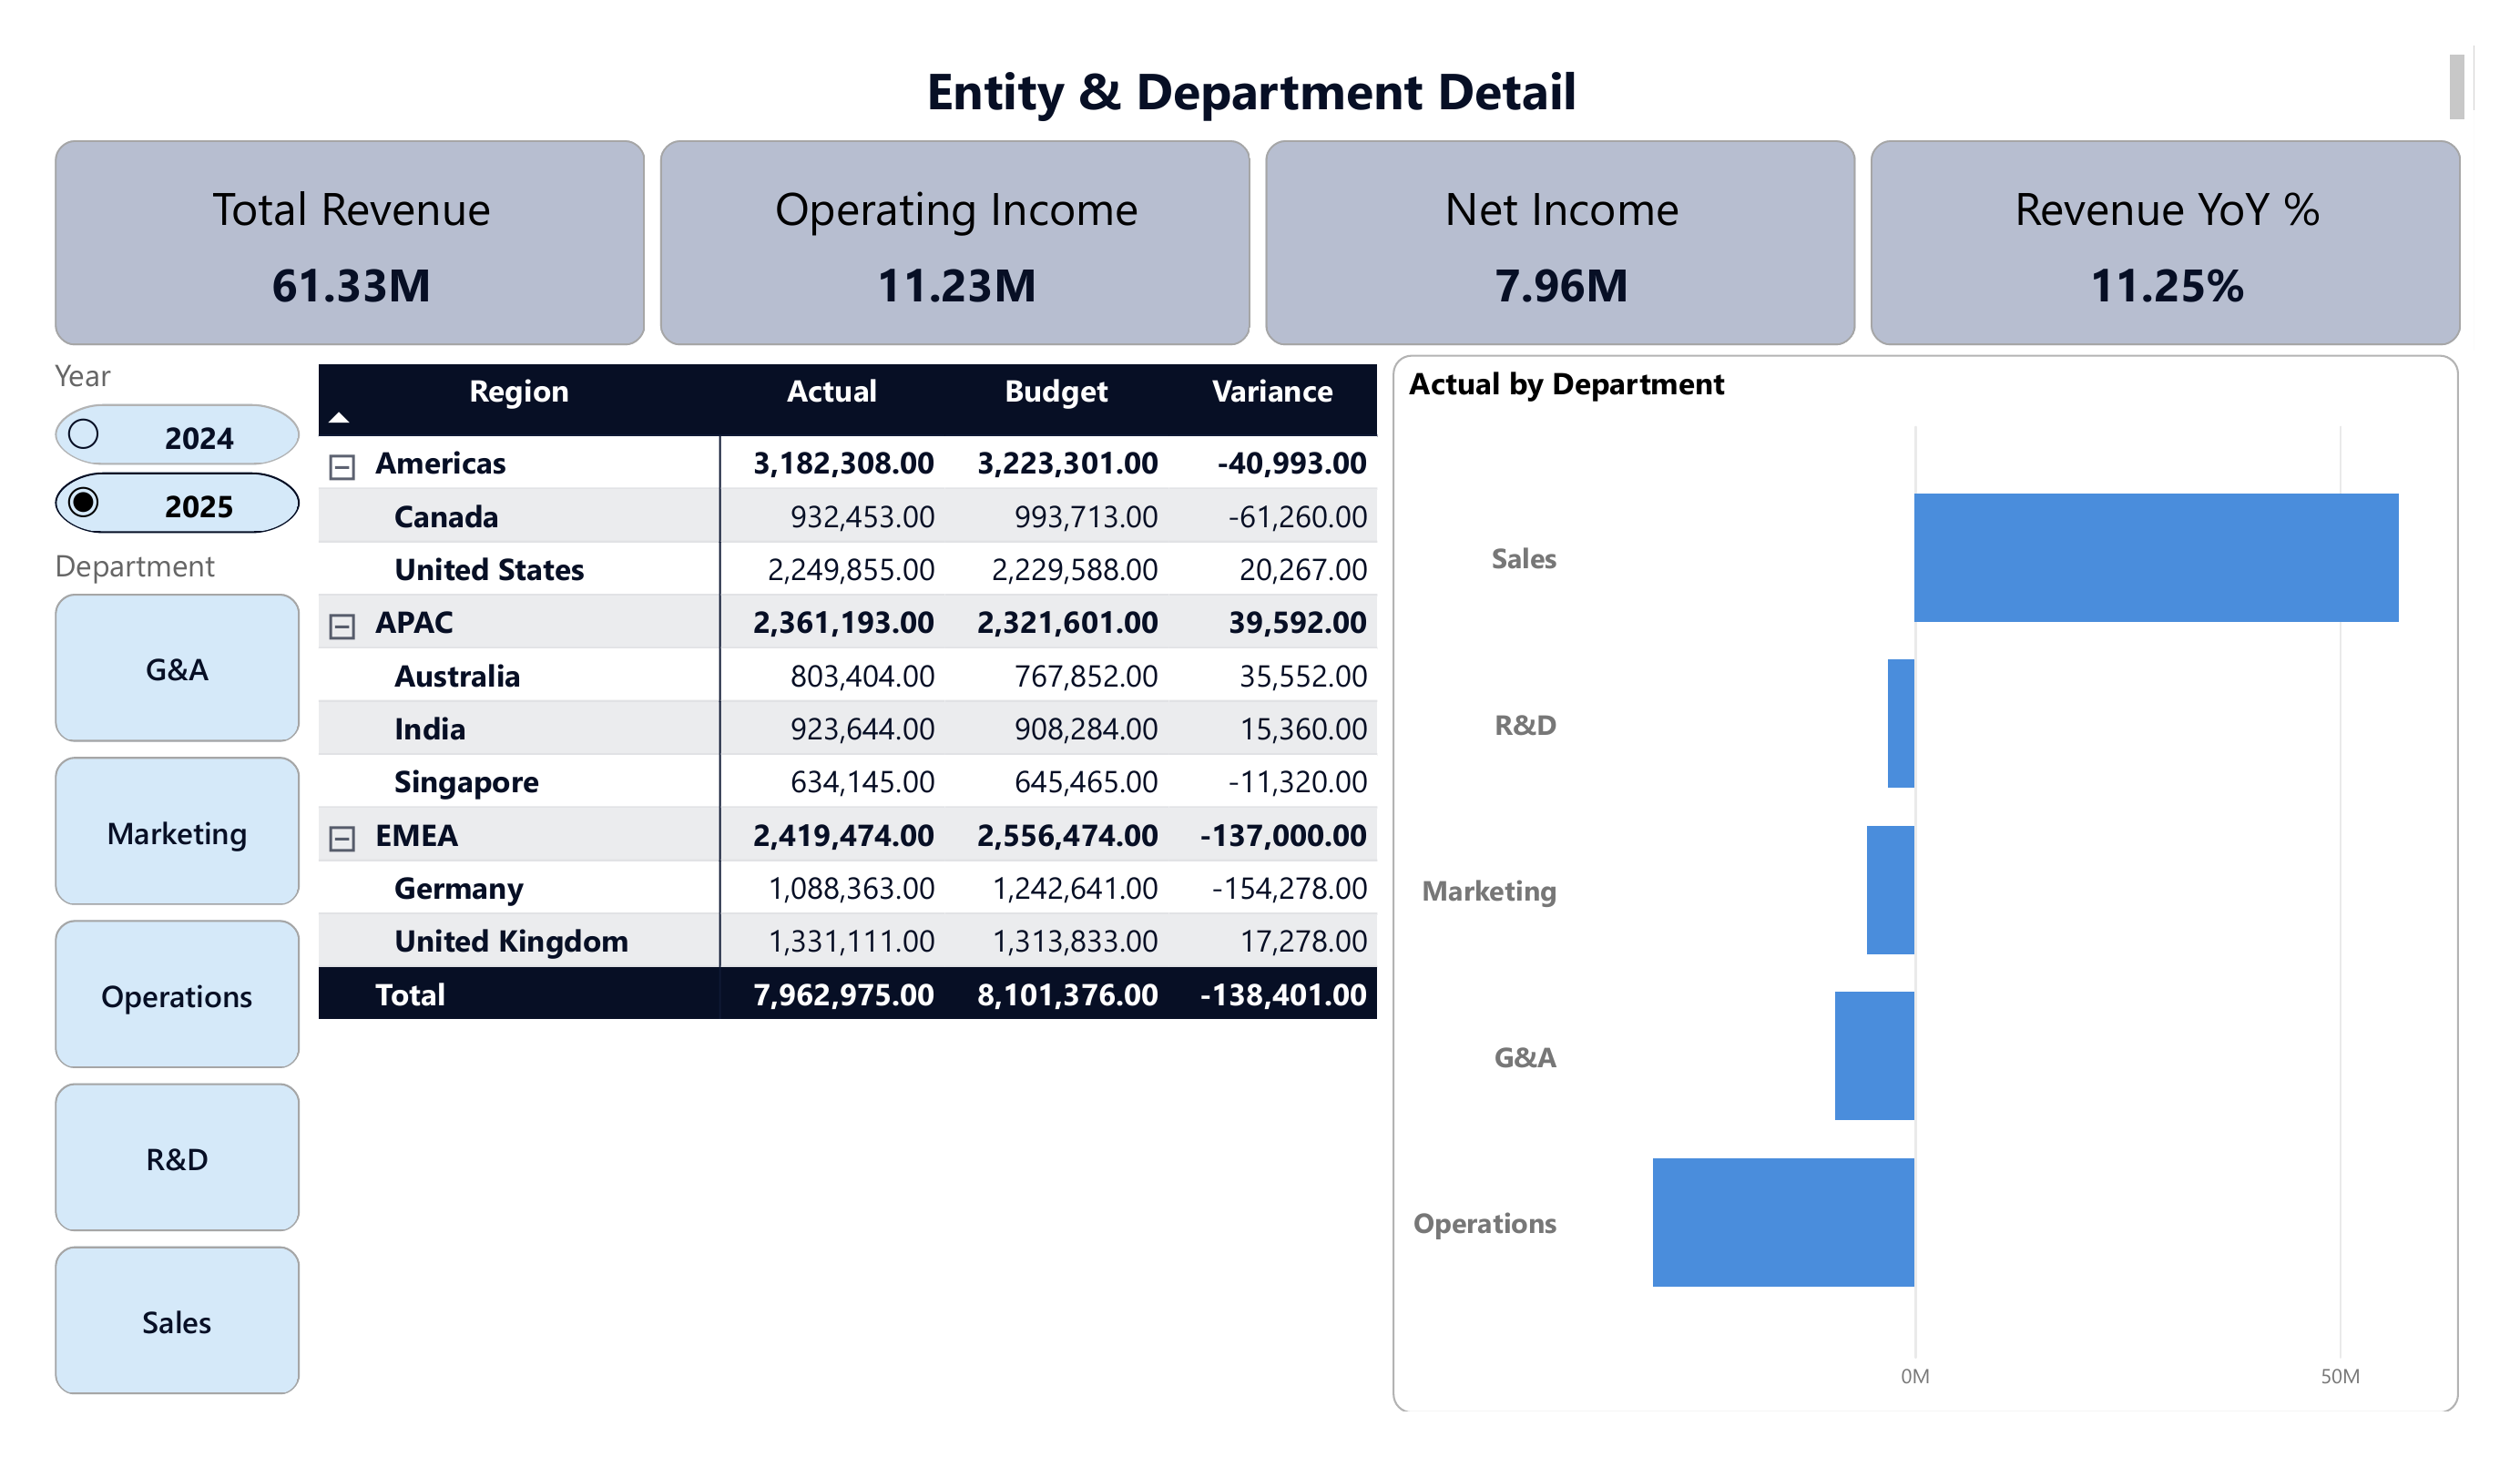

The dashboard page shown, as its layout file describes it:
{"tool":"powerbi","page":{"name":"Duplicate of P&L Variance","canvas":[1280,720],"ordinal":2},"visuals":[{"type":"textbox","box":[0,0,1280,45],"z":0},{"type":"cardVisual","fields":{"Data":["FactFinancials.Total Revenue","FactFinancials.Operating Income","FactFinancials.Net Income","FactFinancials.Revenue YoY %"]},"box":[0,45.2,1280,118.1],"z":1000},{"type":"advancedSlicerVisual","fields":{"Values":["DimDepartment.Department"]},"box":[0,263.2,139.1,457.3],"z":2000},{"type":"pivotTable","fields":{"Rows":["DimEntity.Entity Hierarchy.Region","DimEntity.Entity Hierarchy.Entity"],"Values":["FactFinancials.Actual","FactFinancials.Budget","FactFinancials.Variance"]},"box":[139,163.3,570,557.2],"z":3000},{"type":"clusteredBarChart","fields":{"Category":["DimDepartment.Department"],"Y":["FactFinancials.Actual"]},"box":[709.5,163.3,562.8,557.2],"z":4000},{"type":"listSlicer","fields":{"Values":["DimDateDaily.Year"]},"box":[0,162.9,139.1,100],"z":5000}]}

Visuals, with their boxes on the page's 1280x720 design canvas (x1, y1, x2, y2). These are canvas units, not pixel positions in the 2520x1457 screenshot, which may show the page scaled, cropped or inside an application window:
textbox: 0:0:1280:45
cardVisual - FactFinancials.Total Revenue x FactFinancials.Operating Income: 0:45:1280:163
advancedSlicerVisual - DimDepartment.Department: 0:263:139:720
pivotTable - DimEntity.Entity Hierarchy.Region x DimEntity.Entity Hierarchy.Entity: 139:163:709:720
clusteredBarChart - DimDepartment.Department x FactFinancials.Actual: 710:163:1272:720
listSlicer - DimDateDaily.Year: 0:163:139:263
